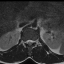CCS_normal: (28, 37, 30, 47)
LFS_normal: (33, 37, 35, 45)
LLS_normal: (30, 37, 33, 45)
RFS_normal: (23, 38, 26, 45)
RLS_normal: (26, 37, 28, 45)
